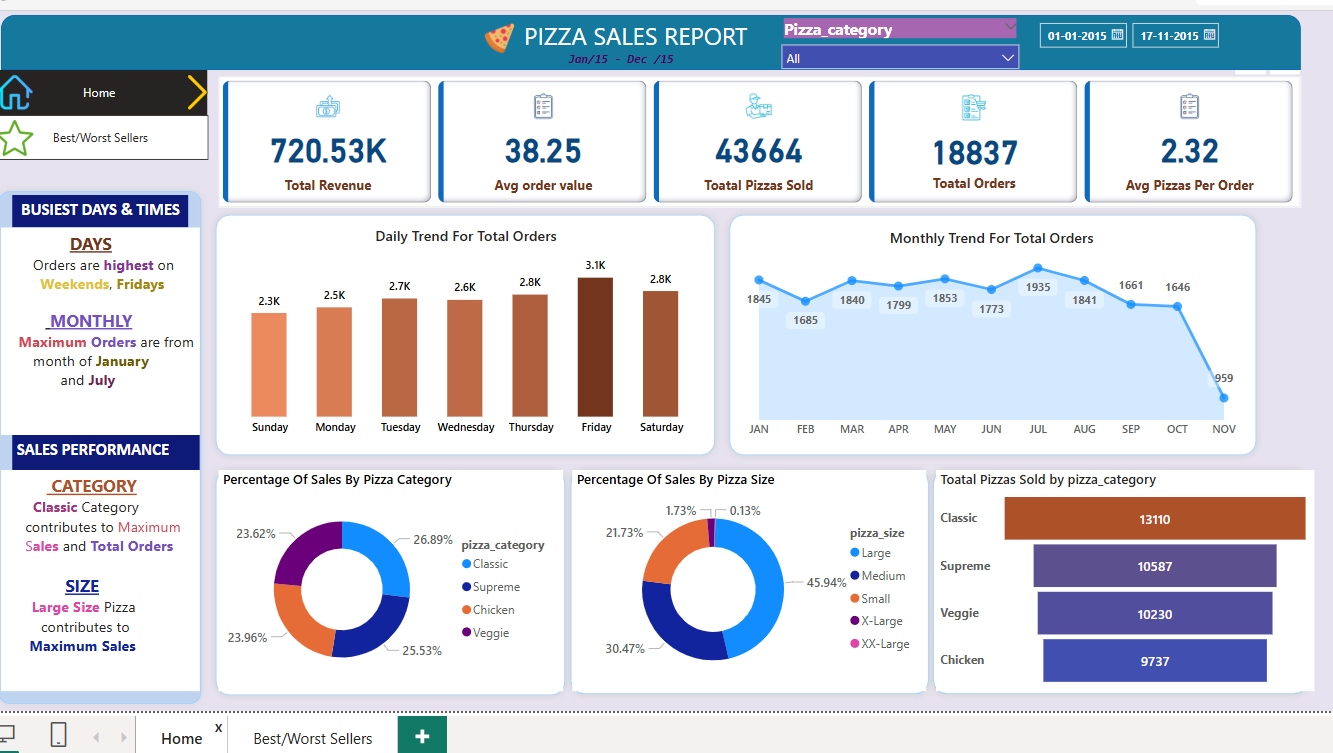

Layout of this report page (visuals, bound fields, positions):
{"tool":"powerbi","page":{"name":"Home ","canvas":[1500,820],"ordinal":0},"visuals":[{"type":"cardVisual","fields":{"Data":["pizza_sales.Total Revenue","pizza_sales.Avg order value","pizza_sales.Toatal Pizzas Sold","pizza_sales.Toatal Orders","pizza_sales.Avg Pizzas Per Order"]},"box":[253.5,112.8,1206.1,146.2],"z":0},{"type":"shape","box":[11.1,44.6,1448.4,61.3],"z":1000},{"type":"textbox","box":[544.5,44.6,325.9,51.5],"z":2000},{"type":"textbox","box":[615.6,79.4,172.7,33.4],"z":3000},{"type":"image","box":[544.5,44.6,44.6,51.5],"z":4000},{"type":"shape","box":[242.3,259,572.4,284.1],"z":5000},{"type":"columnChart","title":"Daily Trend For Total Orders","fields":{"Category":["pizza_sales.Day Name"],"Y":["pizza_sales.Toatal Orders"]},"box":[256.3,278.5,545.9,243.7],"z":6000},{"type":"shape","box":[814.7,259,603,284.1],"z":7000},{"type":"areaChart","title":"Monthly Trend For Total Orders","fields":{"Category":["pizza_sales.Order Month"],"Y":["pizza_sales.Toatal Orders"]},"box":[830,281.3,569.6,243.7],"z":8000},{"type":"shape","box":[242.3,543.1,405.3,267.4],"z":9000},{"type":"shape","box":[637.8,543.1,415,266],"z":10000},{"type":"shape","box":[1041.7,543.1,433.1,266],"z":11000},{"type":"donutChart","title":"Percentage Of Sales By Pizza Category","fields":{"Category":["pizza_sales.pizza_category"],"Y":["pizza_sales.Total Revenue"]},"box":[253.5,551.5,384.4,246.5],"z":12000},{"type":"donutChart","title":"Percentage Of Sales By Pizza Size","fields":{"Y":["pizza_sales.Total Revenue"],"Category":["pizza_sales.pizza_size"]},"box":[647.6,551.5,394.1,246.5],"z":13000},{"type":"funnel","fields":{"Category":["pizza_sales.pizza_category"],"Y":["pizza_sales.Toatal Pizzas Sold"]},"box":[1052.9,551.5,422,246.5],"z":14000},{"type":"shape","box":[0,232.6,242.3,587.7],"z":15000},{"type":"textbox","box":[23.7,245.1,196.4,36.2],"z":16000},{"type":"textbox","box":[11.1,281.3,221.4,231.2],"z":17000},{"type":"textbox","box":[23.7,512.5,208.9,39],"z":18000},{"type":"textbox","box":[11.1,551.5,221.4,246.5],"z":19000},{"type":"slicer","fields":{"Values":["pizza_sales.pizza_category"]},"box":[870.3,43.2,285.1,62.2],"z":20000},{"type":"slicer","fields":{"Values":["pizza_sales.order_date"]},"box":[1155.4,43.2,221.6,70.3],"z":21000},{"type":"pageNavigator","box":[0,105.4,241.9,50],"z":22000},{"type":"pageNavigator","box":[1.4,155.4,241.9,50],"z":23000},{"type":"image","box":[0,105.4,52.7,50],"z":24000},{"type":"image","box":[201.4,105.4,55.4,50],"z":25000},{"type":"image","box":[0,155.4,52.7,51.4],"z":26000}]}

Visuals, with their boxes on the page's 1500x820 design canvas (x1, y1, x2, y2). These are canvas units, not pixel positions in the 1333x753 screenshot, which may show the page scaled, cropped or inside an application window:
cardVisual - pizza_sales.Total Revenue x pizza_sales.Avg order value: <region>254, 113, 1460, 259</region>
shape: <region>11, 45, 1460, 106</region>
textbox: <region>544, 45, 870, 96</region>
textbox: <region>616, 79, 788, 113</region>
image: <region>544, 45, 589, 96</region>
shape: <region>242, 259, 815, 543</region>
"Daily Trend For Total Orders" columnChart: <region>256, 278, 802, 522</region>
shape: <region>815, 259, 1418, 543</region>
"Monthly Trend For Total Orders" areaChart: <region>830, 281, 1400, 525</region>
shape: <region>242, 543, 648, 810</region>
shape: <region>638, 543, 1053, 809</region>
shape: <region>1042, 543, 1475, 809</region>
"Percentage Of Sales By Pizza Category" donutChart: <region>254, 552, 638, 798</region>
"Percentage Of Sales By Pizza Size" donutChart: <region>648, 552, 1042, 798</region>
funnel - pizza_sales.pizza_category x pizza_sales.Toatal Pizzas Sold: <region>1053, 552, 1475, 798</region>
shape: <region>0, 233, 242, 820</region>
textbox: <region>24, 245, 220, 281</region>
textbox: <region>11, 281, 232, 512</region>
textbox: <region>24, 512, 233, 552</region>
textbox: <region>11, 552, 232, 798</region>
slicer - pizza_sales.pizza_category: <region>870, 43, 1155, 105</region>
slicer - pizza_sales.order_date: <region>1155, 43, 1377, 114</region>
pageNavigator: <region>0, 105, 242, 155</region>
pageNavigator: <region>1, 155, 243, 205</region>
image: <region>0, 105, 53, 155</region>
image: <region>201, 105, 257, 155</region>
image: <region>0, 155, 53, 207</region>
